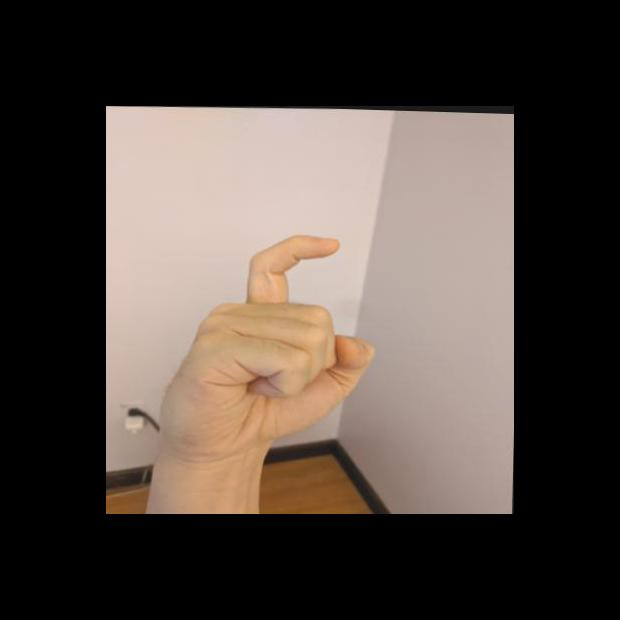W: (144, 228, 384, 462)
